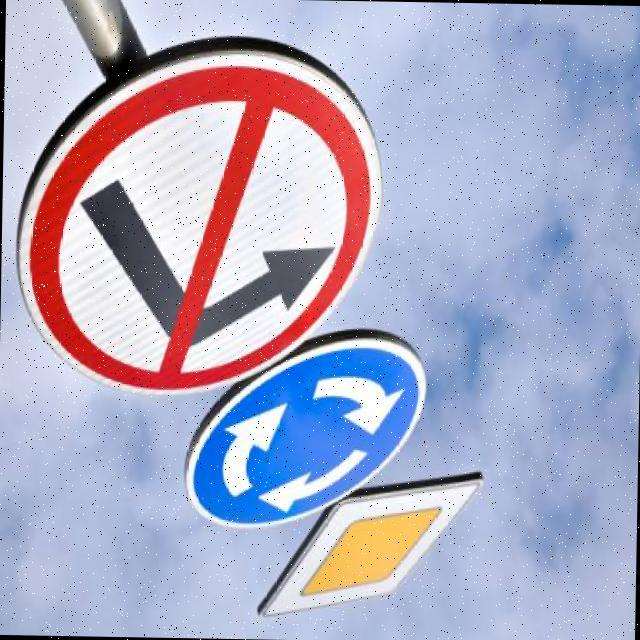do_not_turn_right: (7, 31, 406, 402)
